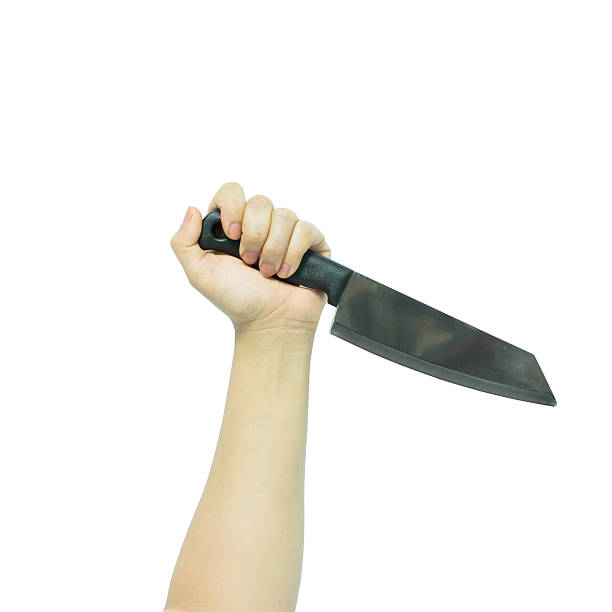knife: (199, 211, 558, 409)
